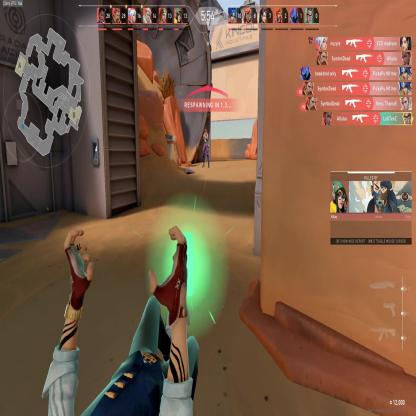enemy: (201, 124, 210, 168)
